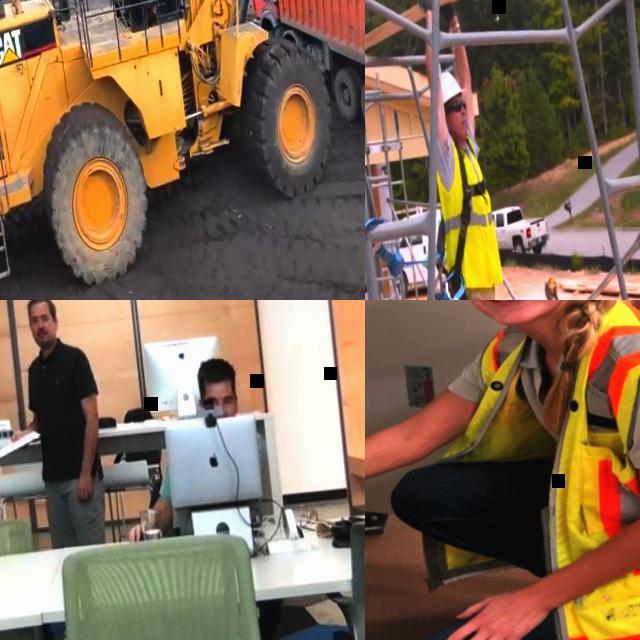helmet: (440, 68, 468, 104)
machinery: (0, 0, 365, 300), (238, 0, 365, 157)
no_helmet: (194, 354, 238, 394), (26, 300, 56, 316)
no_mask: (479, 300, 571, 326), (32, 324, 58, 348), (451, 112, 471, 140)
no_vest: (24, 342, 108, 486)
person: (365, 300, 640, 640), (405, 0, 530, 300), (0, 300, 115, 549), (109, 353, 254, 542)
vehicle: (394, 206, 452, 294), (492, 202, 552, 258)
vest: (397, 300, 640, 640), (434, 136, 506, 292)
